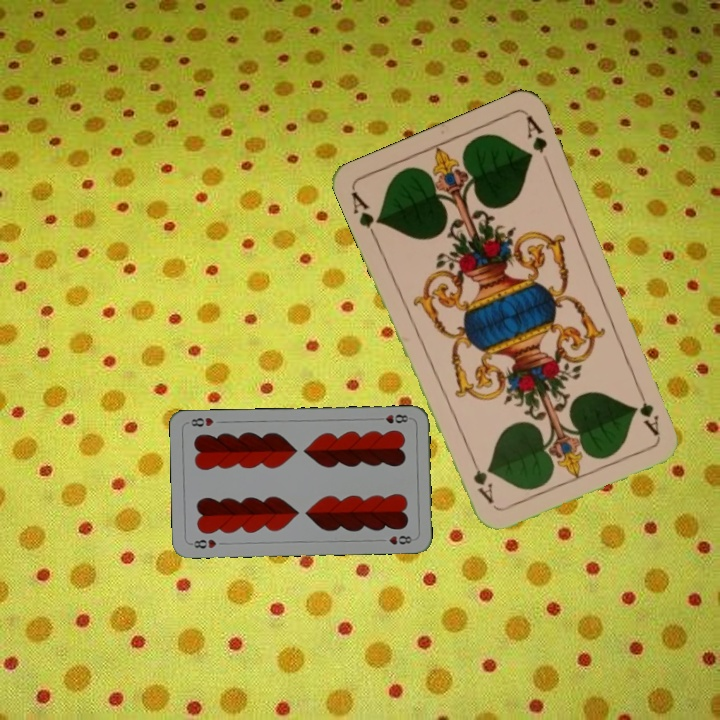GA: (347, 187, 384, 243), (632, 381, 662, 438)
H8: (373, 410, 413, 426), (187, 535, 219, 551)
